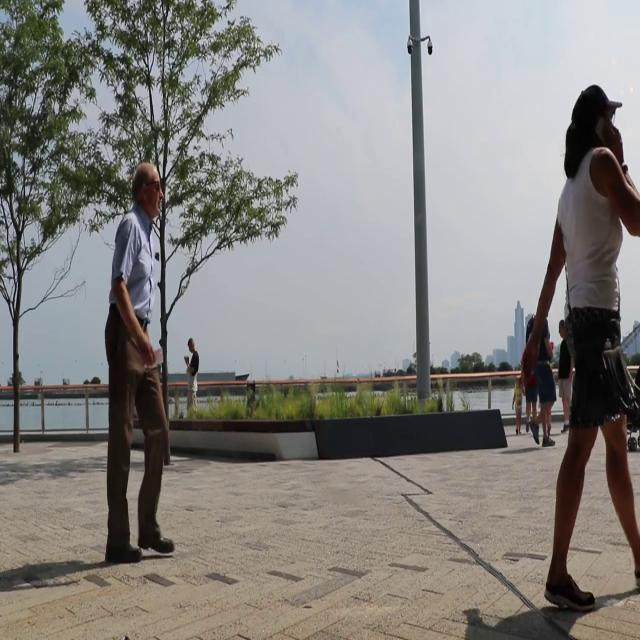normal: (521, 85, 640, 612), (104, 158, 190, 563)
